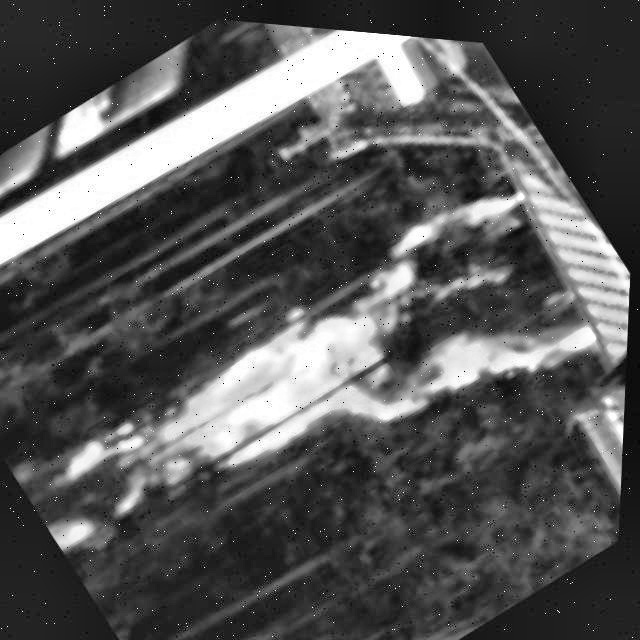Fire: (12, 127, 579, 615)
